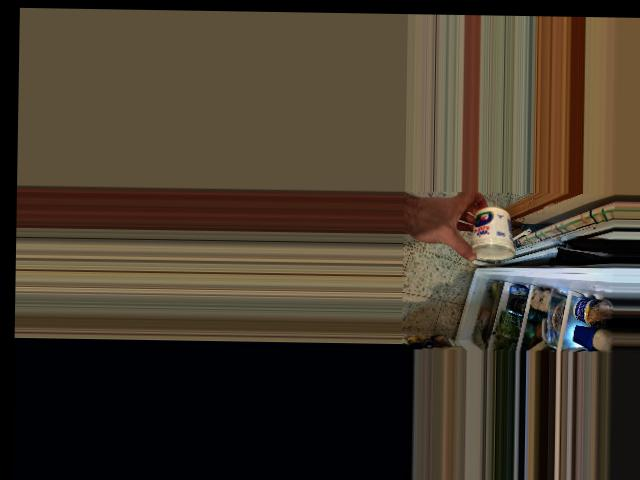cotage: (467, 209, 510, 256)
